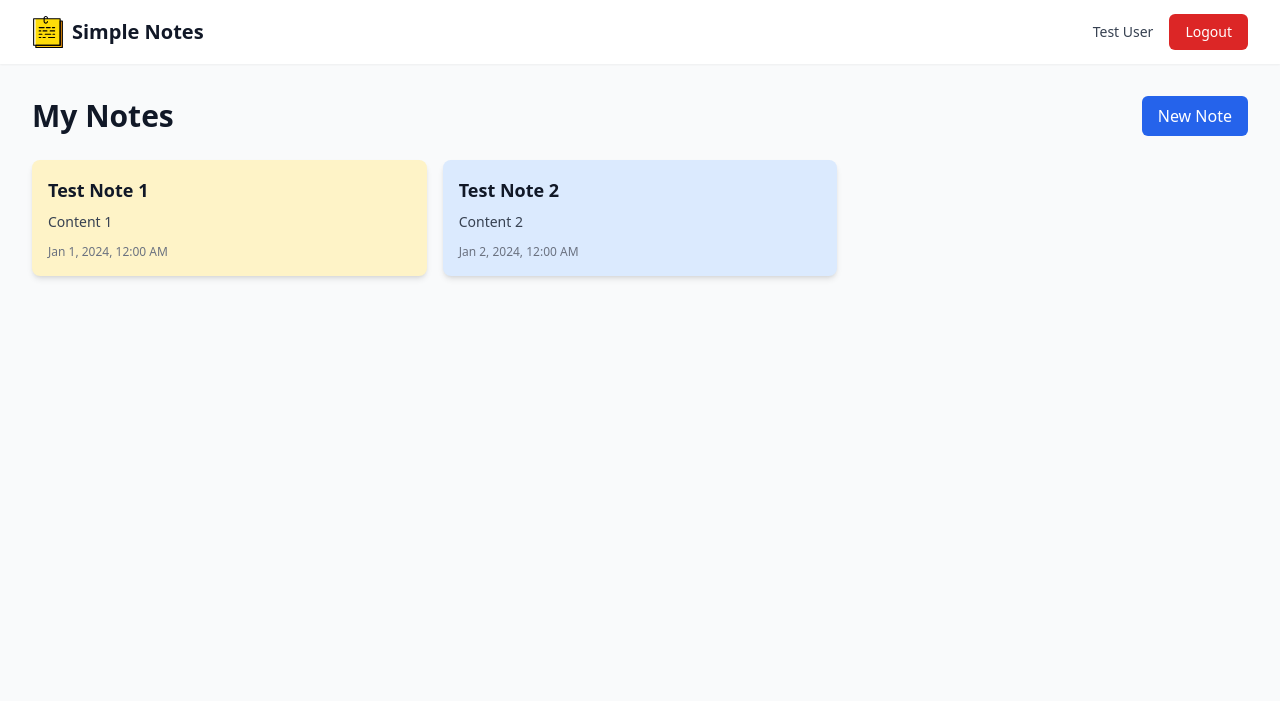
Scenario: NotesPage › should toggle note form when new note button is clicked
This screenshot has width=1280, height=701.
Click the button "New Note". click: [1195, 116]
box: [1142, 96, 1248, 136]
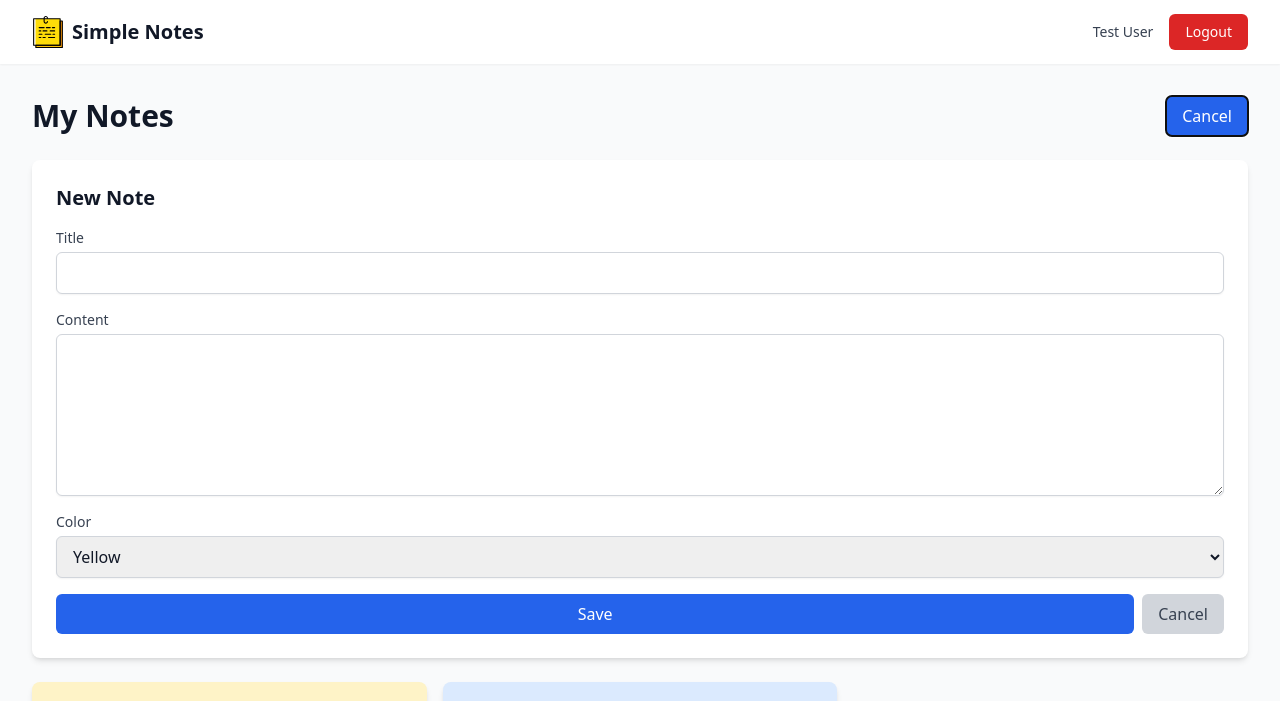
Check: the heading "New Note" is shown, box [56, 184, 155, 211]
Check: the button "Cancel" in the row of "My Notes" is shown, box [1166, 96, 1248, 136]
